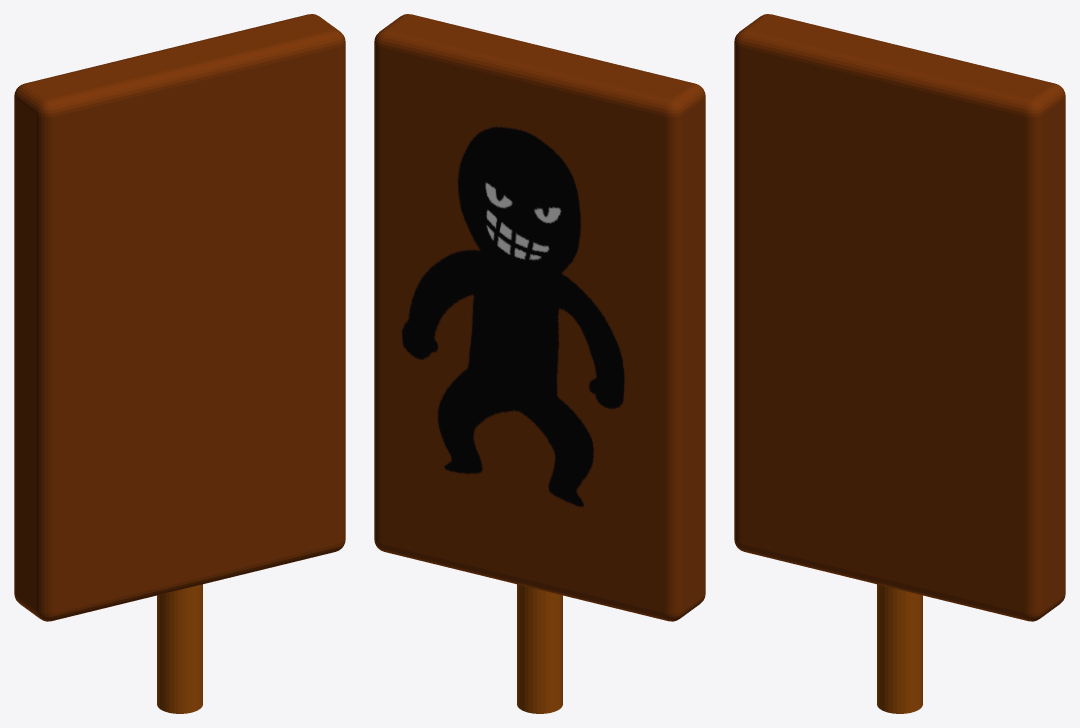
File: warumonoTarget.fbx
3 renders of one model, left to right at view 1: azimuth 30°, elevation 25°; view 2: azimuth 150°, elevation 25°; view 3: azimuth 330°, elevation 25°, orthographic.
Parts seen in each view (by area): view 1: Cube, Cylinder; view 2: Cube, Cylinder; view 3: Cube, Cylinder.
Part boxes in pixels (box(x1,y1,x2,y2)): Cube: box(14, 14, 345, 621); Cylinder: box(157, 584, 202, 713); Cube: box(374, 14, 705, 621); Cylinder: box(517, 584, 562, 713); Cube: box(734, 14, 1065, 621); Cylinder: box(877, 584, 922, 713).
Bounding box in the file's own units: 771 × 1551 × 147.
